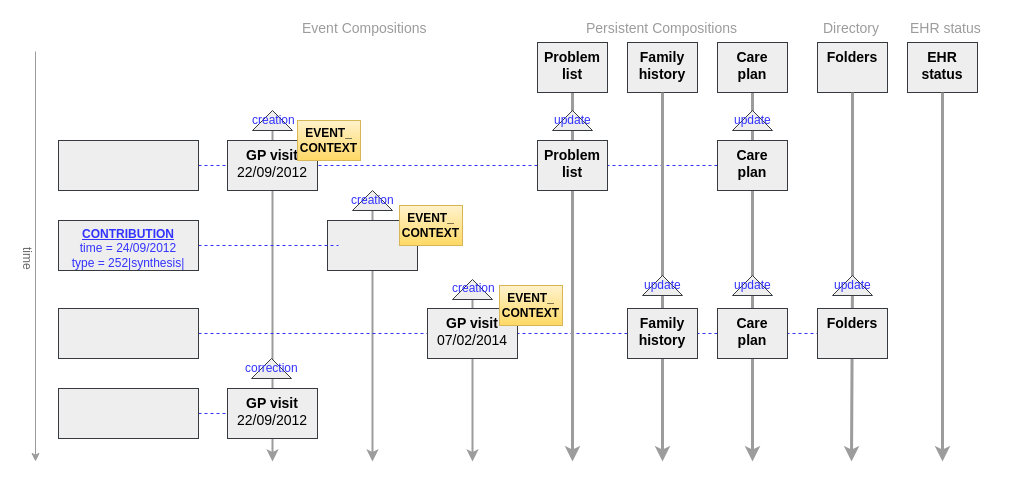
The diagram is 1015 pixels wide and 488 high, and some of its shapes have lost their labels. Here are the shapes that lost their labels. From the top down, the centre of each, then its label:
At [128,165]: "CONTRIBUTION time = 22/09/2012 type = 251|modification|".
At [372,245]: "Test results 24/09/2012".
At [128,333]: "CONTRIBUTION time = 07/02/2014 type = 251|modification|".
At [128,413]: "CONTRIBUTION time = 01/05/2014 type = 250|amendment|".
